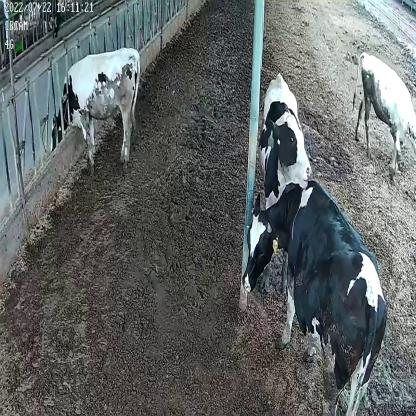cow: (242, 180, 387, 414), (49, 50, 141, 175), (352, 50, 415, 183), (260, 70, 312, 206)
